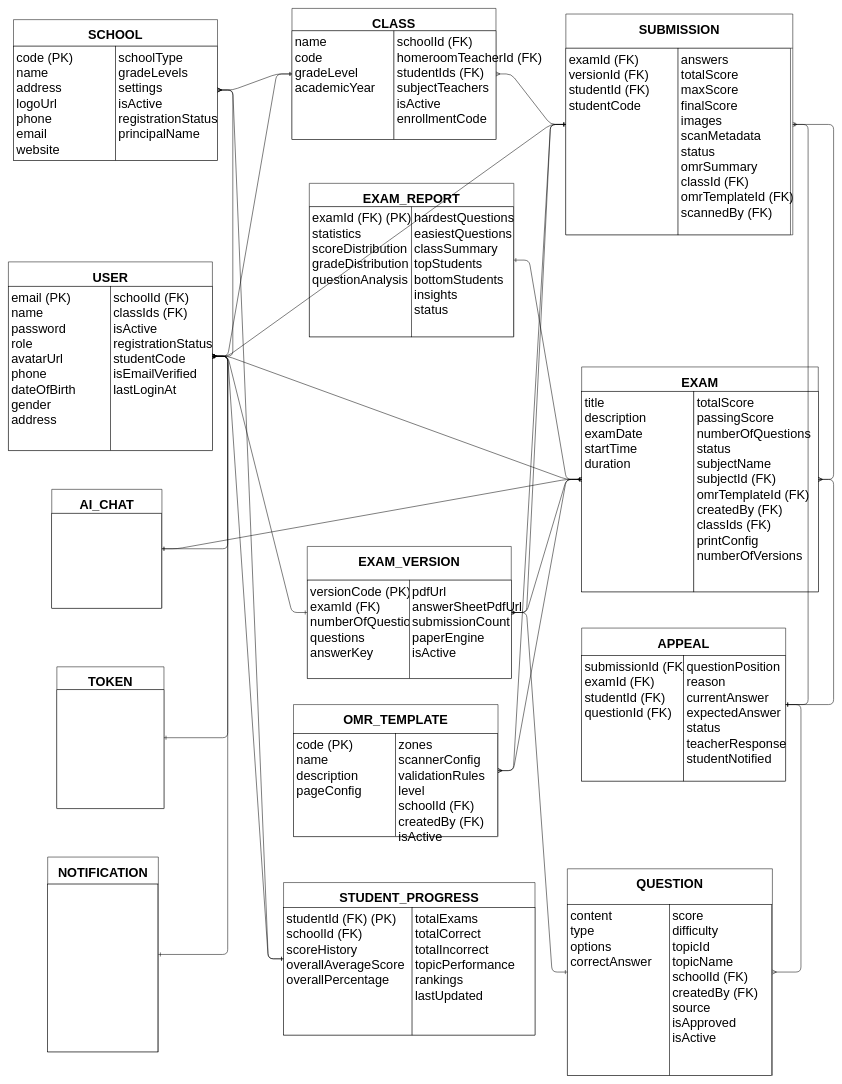
This 842x1084 diagram has some shape labels left out. The centre of each missing label's shape, as x and y in pixels:
"studentId (FK) examId (FK) context messages isActive lastMessageAt modelUsed" belongs at (106,560).
"token (PK) userId (FK) type expires blacklisted" belongs at (110,749).
"userId (FK) type title body data isRead channels priority expiresAt isDeleted" belongs at (102,968).
